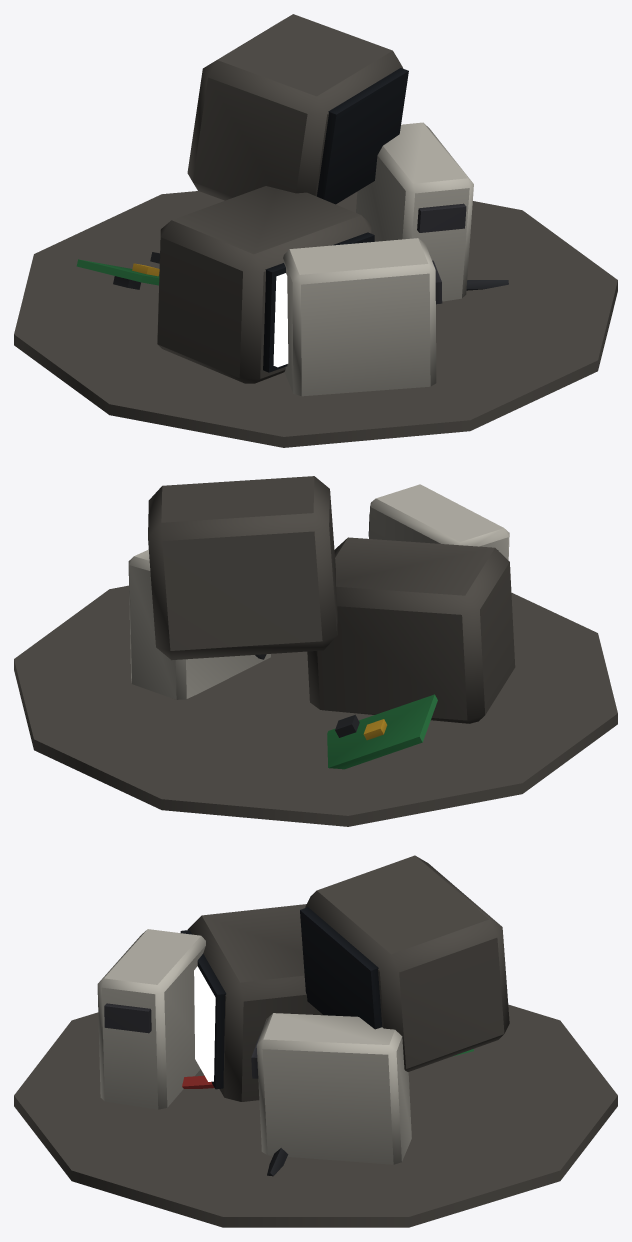
The model's file is n_ewaste_2.glb.
3 views of the same model, one above another, from view 1: azimuth 30°, elevation 25°; view 2: azimuth 150°, elevation 25°; view 3: azimuth 270°, elevation 25° (orthographic). The views are drawn at different scales.
Visible parts, largest first — view 1: body, screen_glow; view 2: body; view 3: body, screen_glow.
Part boxes in pixels (x1,y1,x2,y2): body: (14,14,617,447); screen_glow: (273,273,288,367); body: (14,476,617,826); body: (14,855,617,1227); screen_glow: (194,966,215,1081).
Size of the model in its own units: 2.43 by 1.07 by 2.55.
